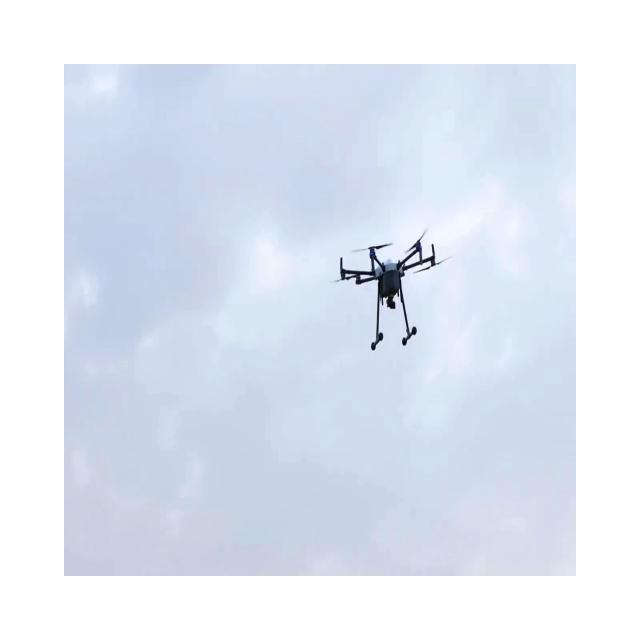drone: (332, 226, 452, 351)
